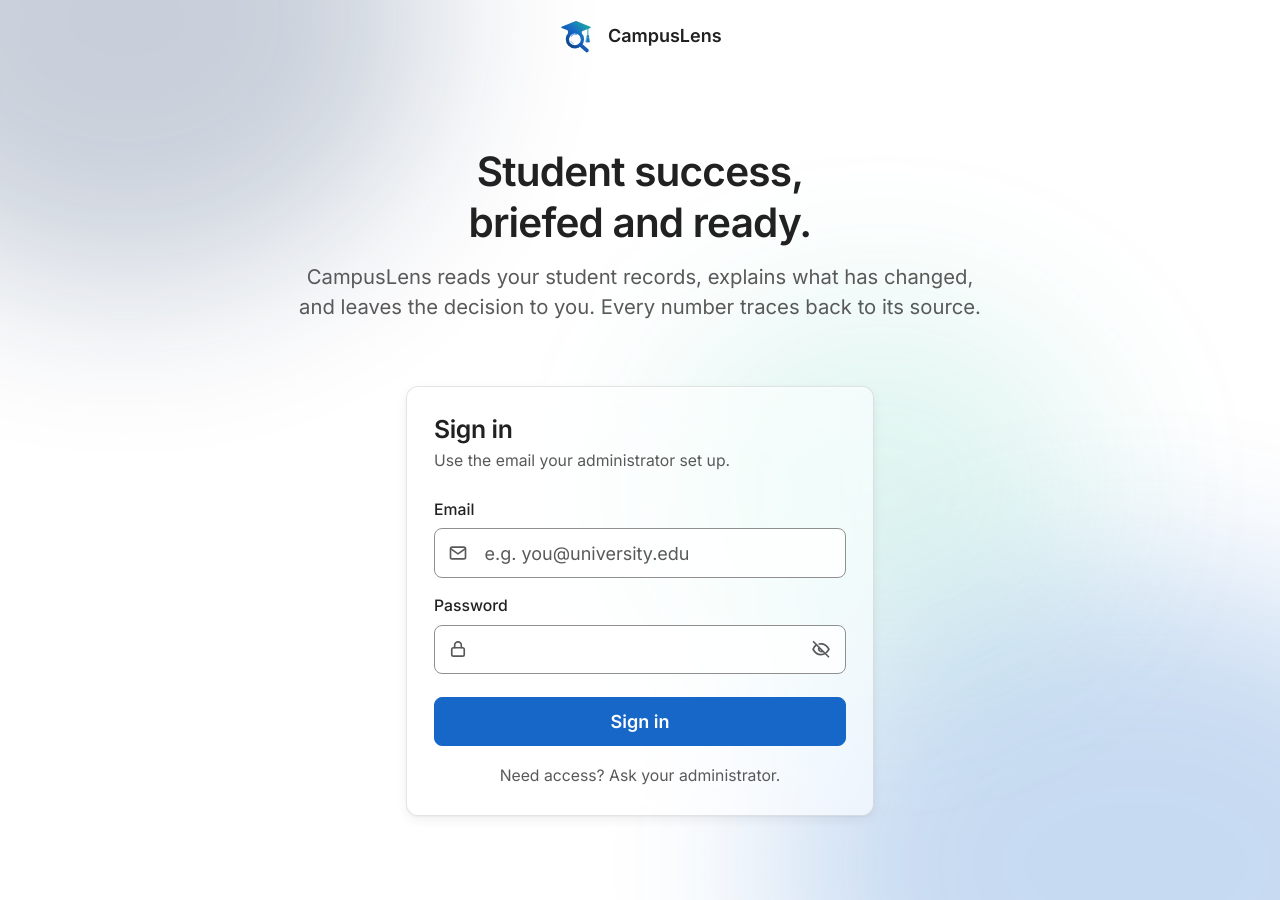
Scenario: LoginScreen › never shows raw error text for an unexpected failure
Type "president@demo.test" into the field labelled "Email". click: coordinates (640, 553)
box: [434,528,846,578]
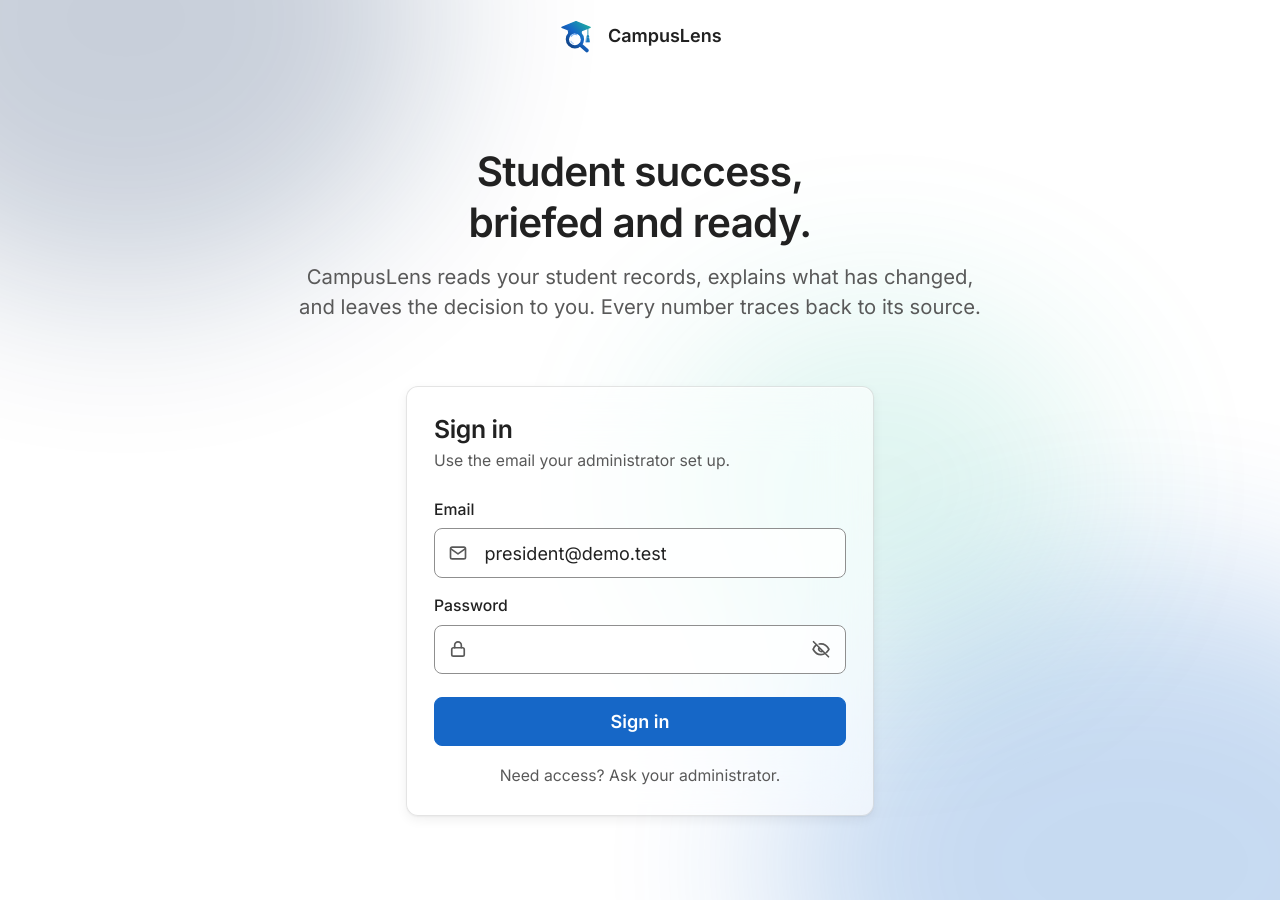
Type "secret" into the password field labelled "Password". click: coordinates (640, 649)
box: [434,625,846,674]
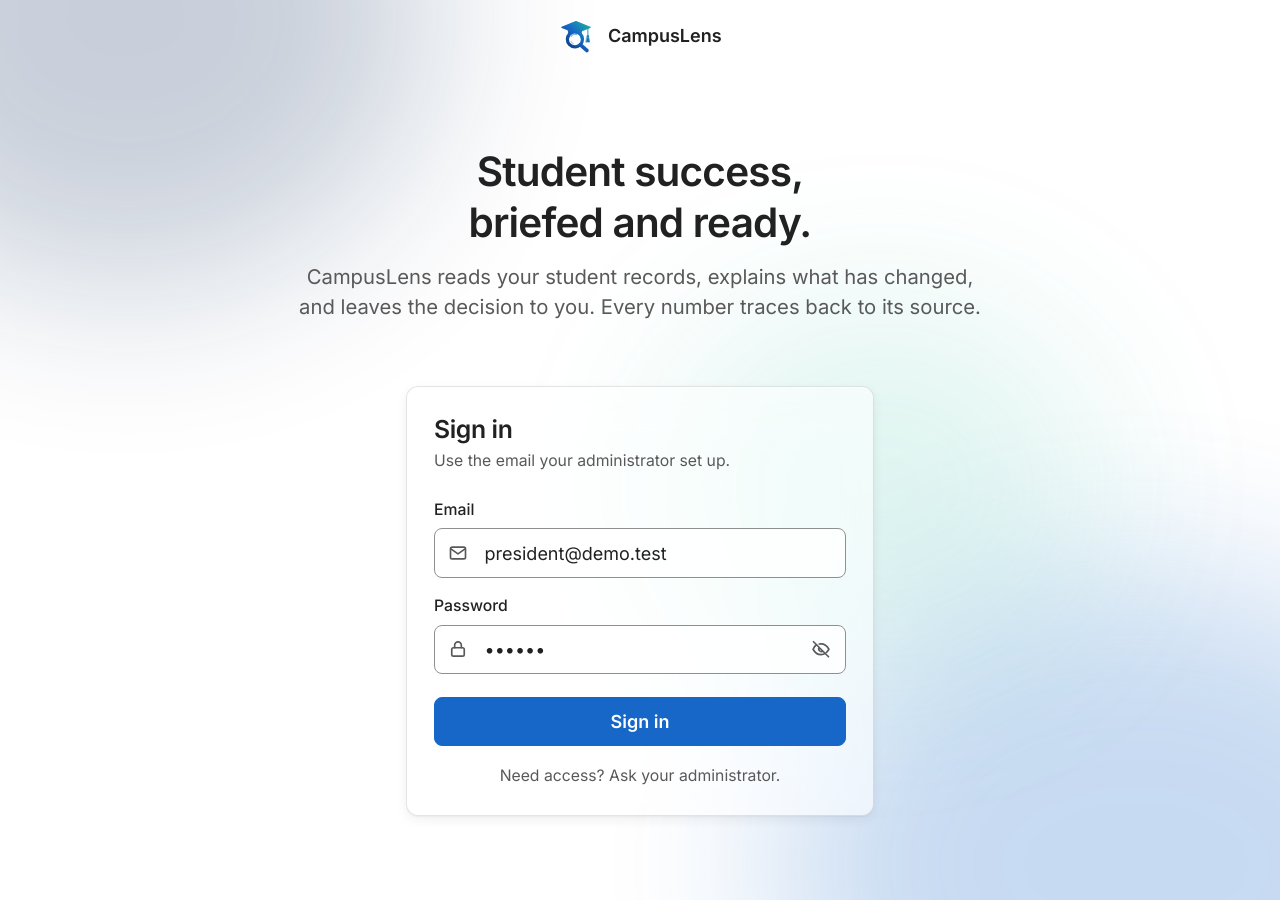
Click the button "Sign in". click: coordinates (640, 721)
box: [434,697,846,746]
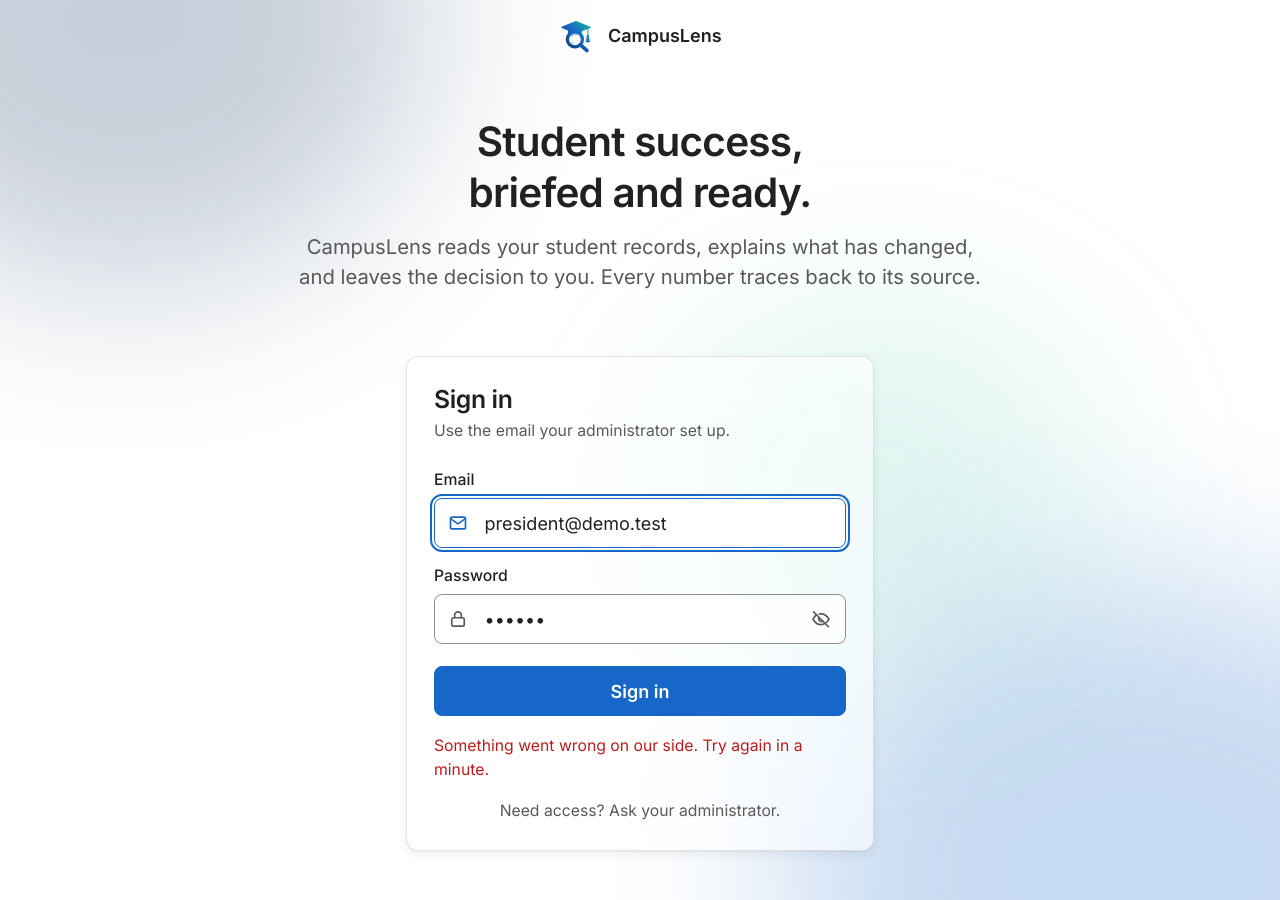
Check: the message reads "Something went wrong on our side. Try again in a minute.", box [434,736,802,778]
